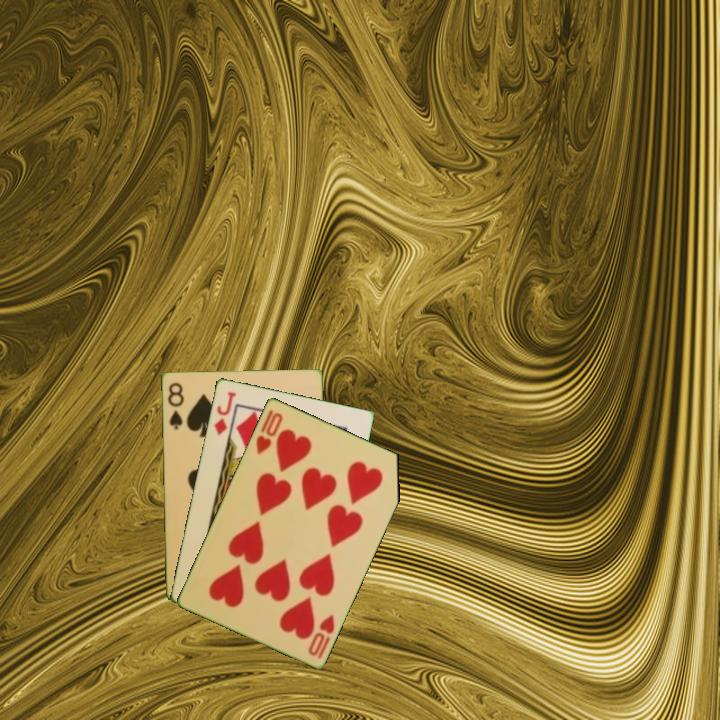10h: (304, 610, 338, 661), (252, 408, 286, 457)
8s: (164, 379, 187, 432)
Jd: (210, 388, 239, 438)
